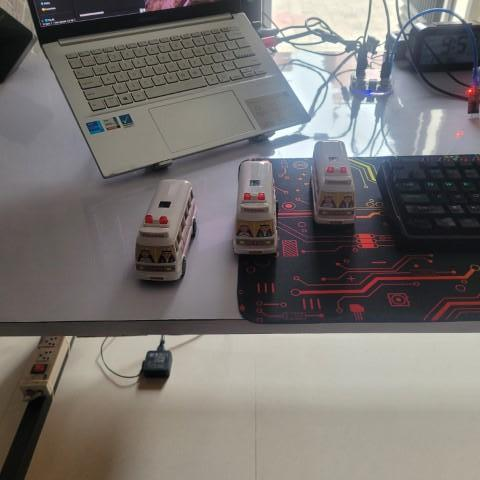ambulance: (133, 177, 202, 289), (305, 135, 360, 228), (235, 157, 282, 260)
